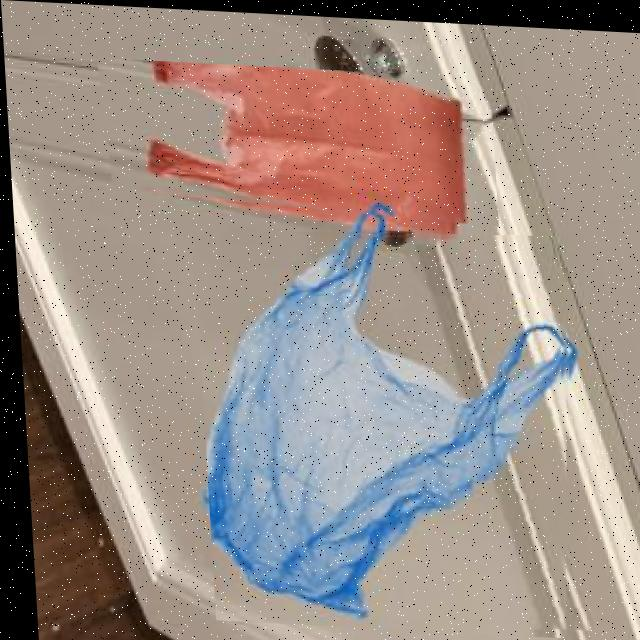plasticcover: (189, 218, 581, 634), (93, 57, 495, 222)
